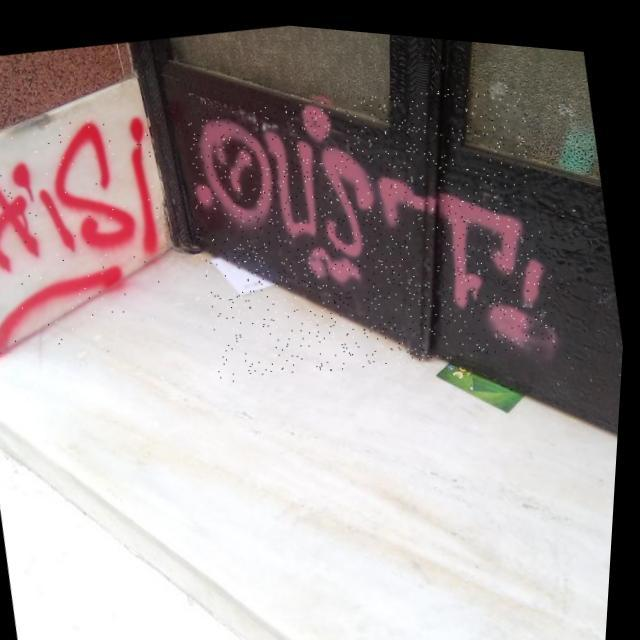-: (172, 47, 573, 402), (0, 101, 189, 371)
